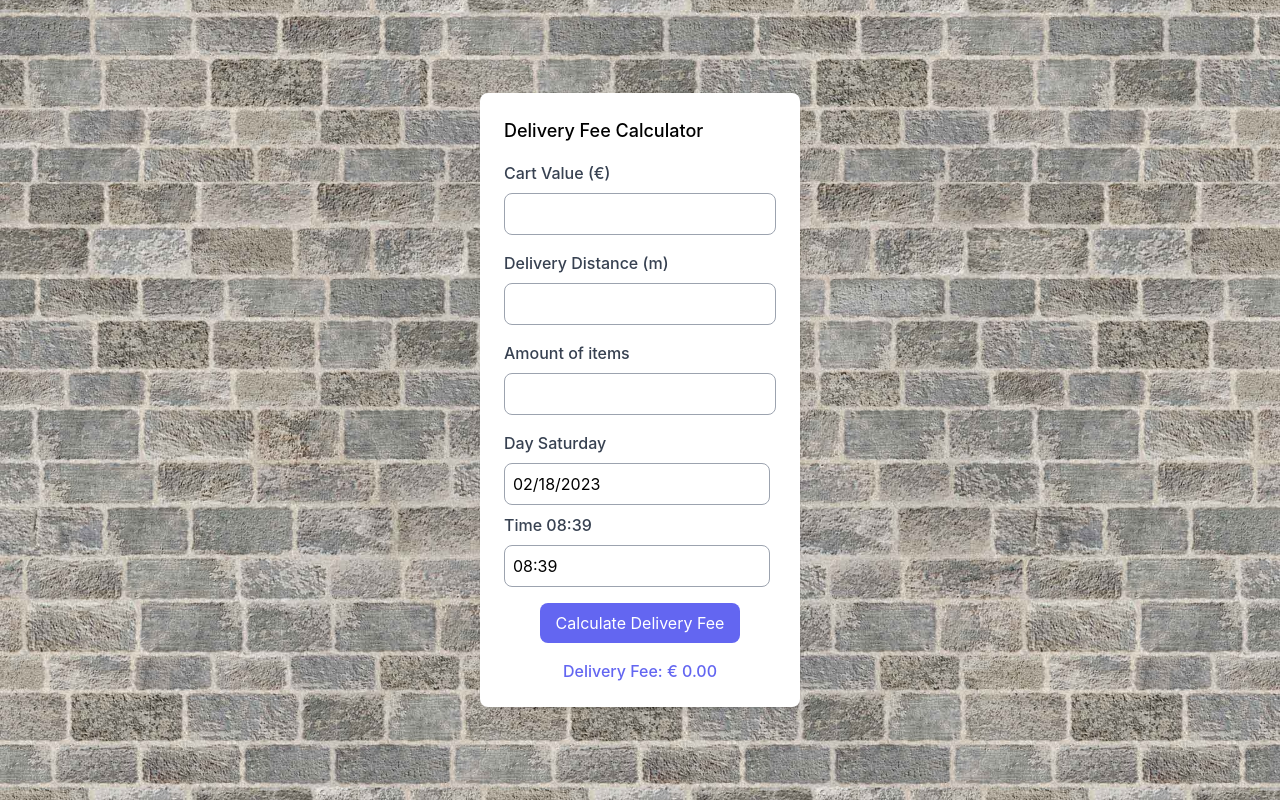
Data fee calculator › form works and retrieve delivery fee(10 € cart value)
Type "10" into the field labelled "Cart Value (€)". click: (640, 214)
box: 504,193 -> 776,235
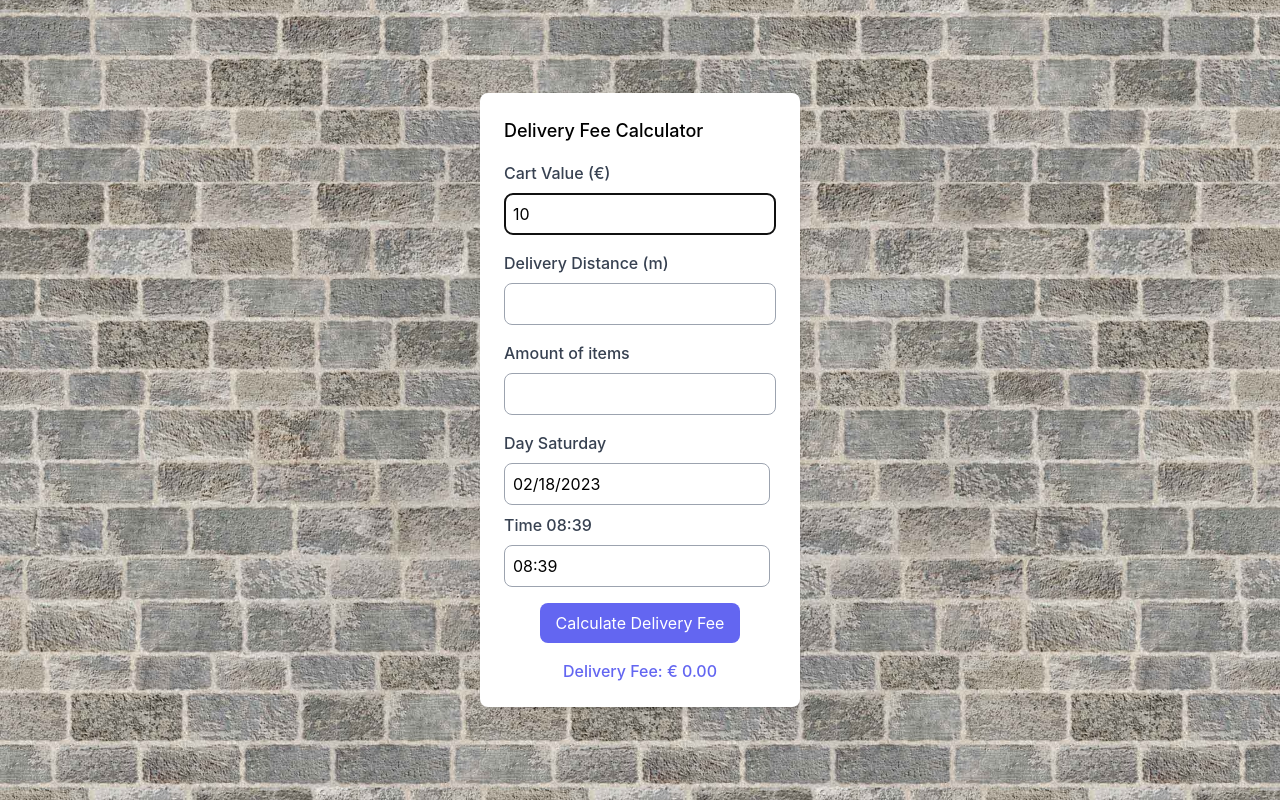
Type "1000" into the number field with id "distance". click: (640, 304)
box: 504,283 -> 776,325
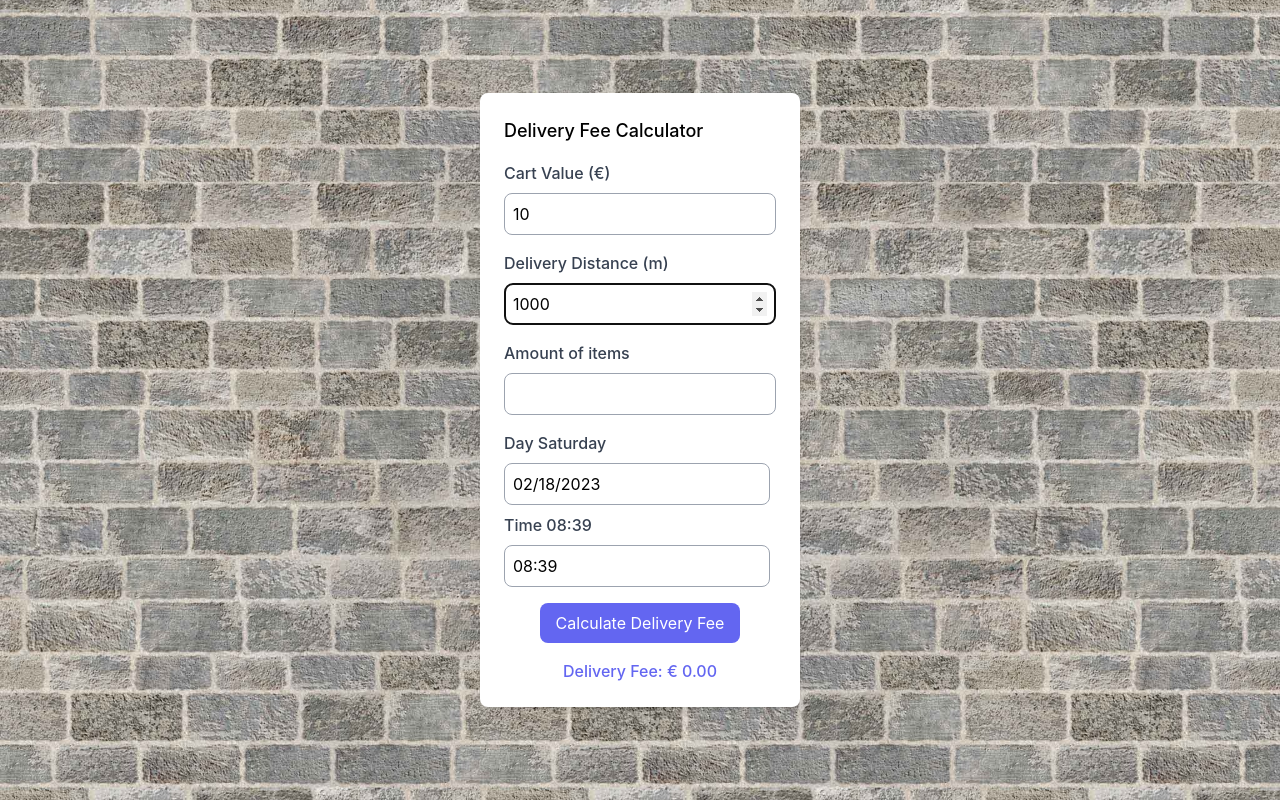
Type "3" into the number field with id "items". click: (640, 394)
box: 504,373 -> 776,415
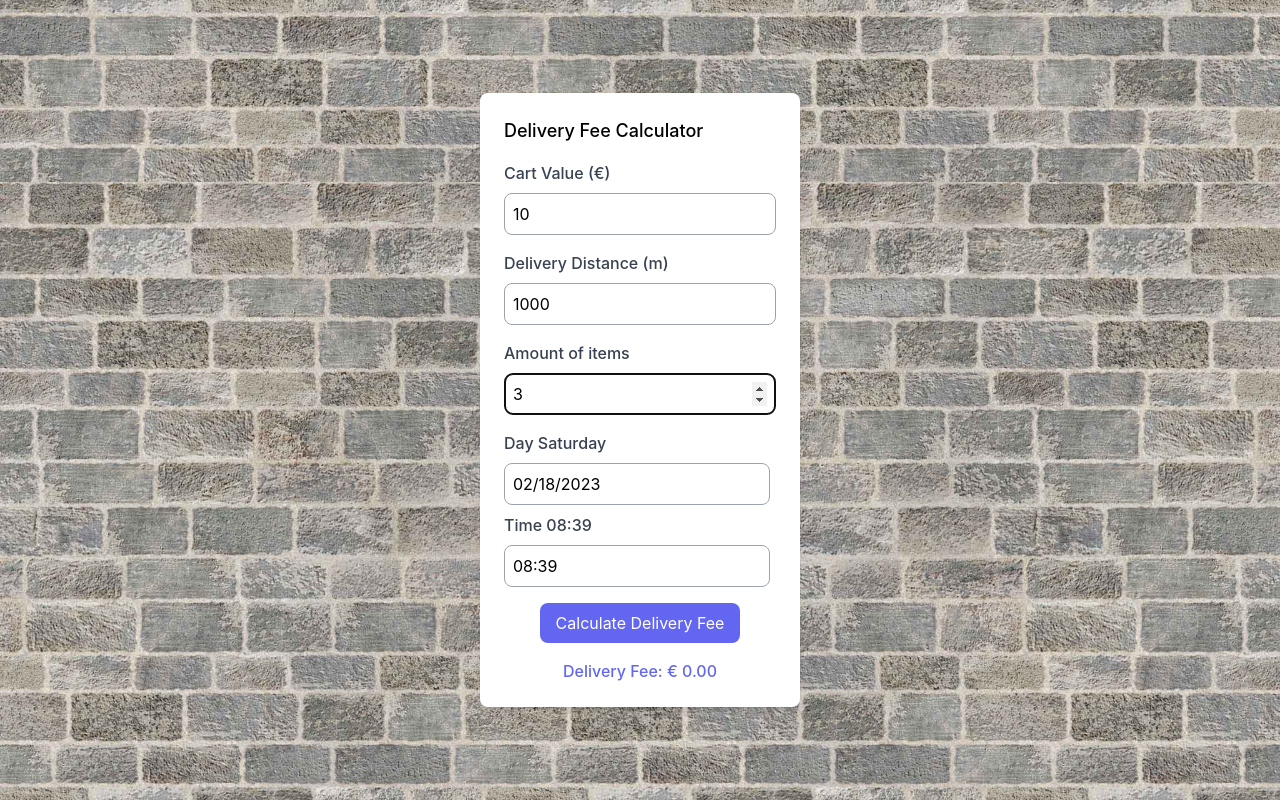
Click the field with id "date". click: (637, 484)
box: 504,463 -> 770,505
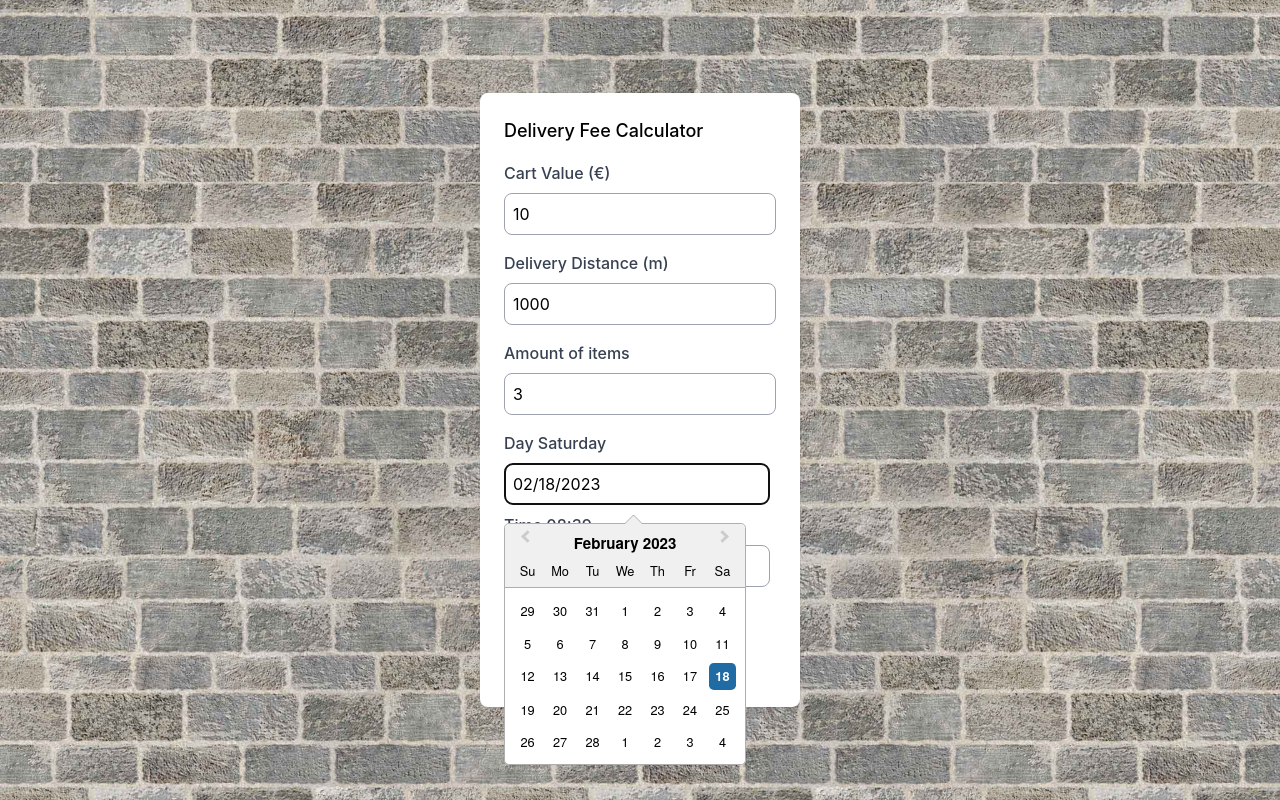
Click the option "26". click: (528, 742)
box: 521,732 -> 535,751
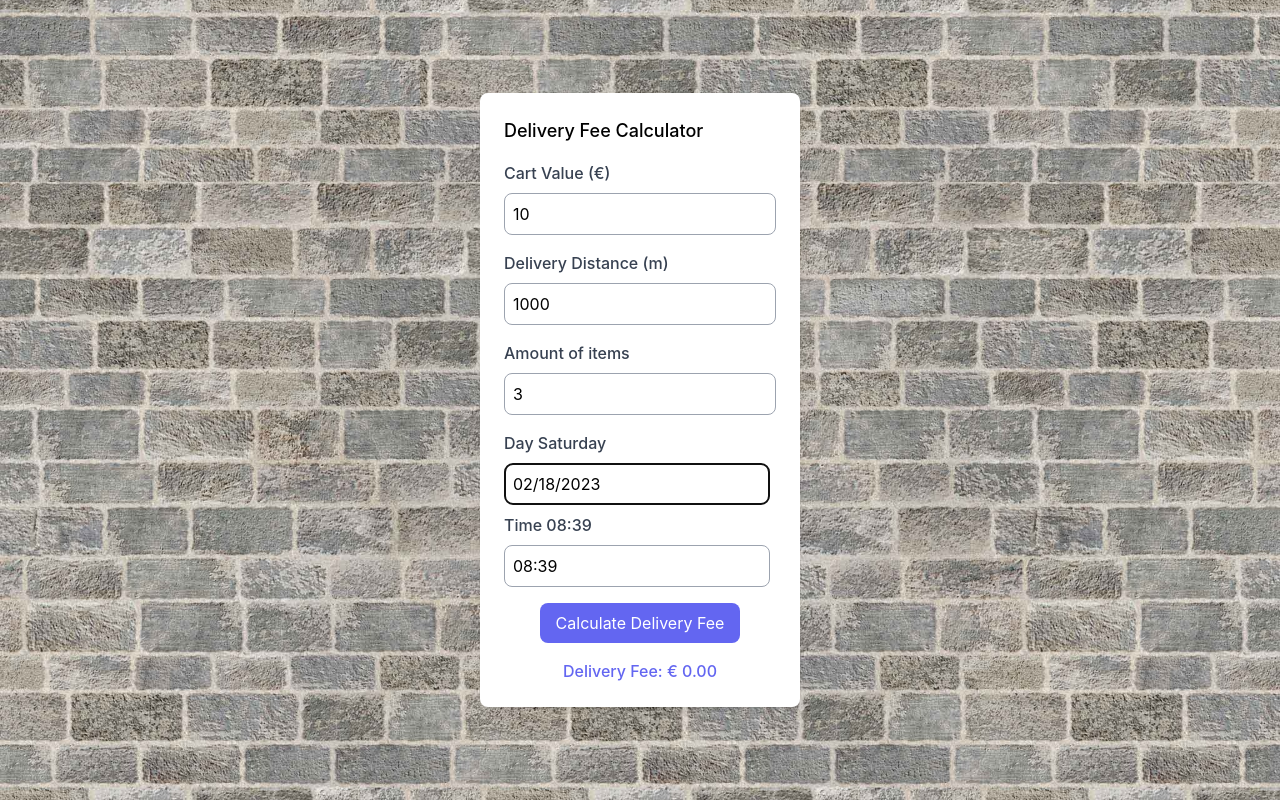
Click the button with id "submit". click: (641, 623)
box: 540,603 -> 741,643
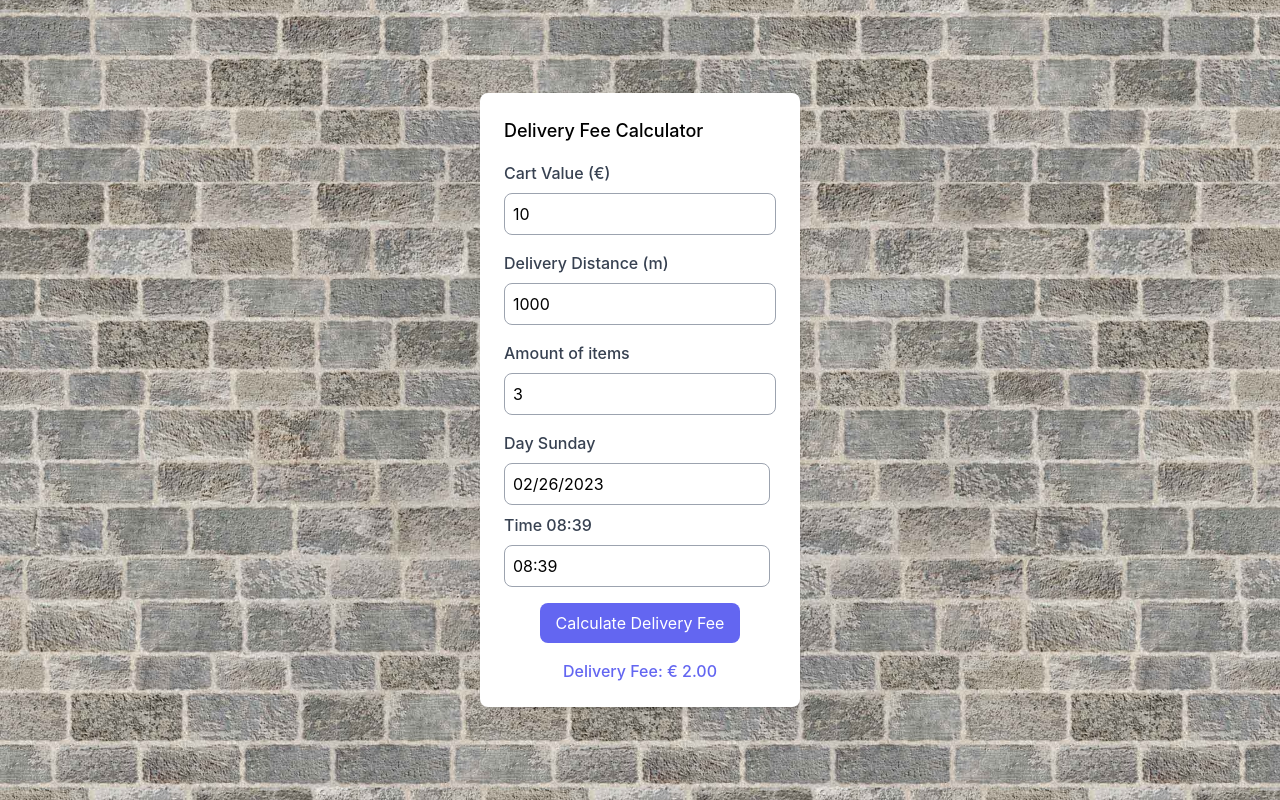
Now the text "Delivery Fee: € 2.00" is shown, box 563,661 -> 717,681
